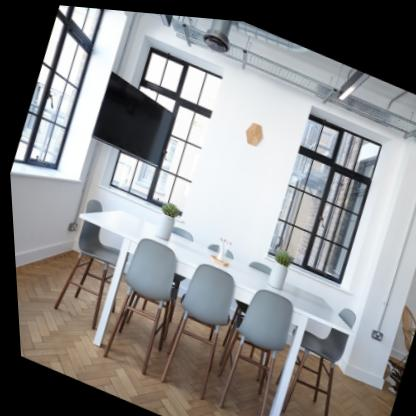Dining Table: (33, 183, 363, 416)
Window: (100, 41, 228, 217), (261, 108, 385, 280), (16, 4, 106, 167)
Wooden floor: (12, 251, 276, 416)
